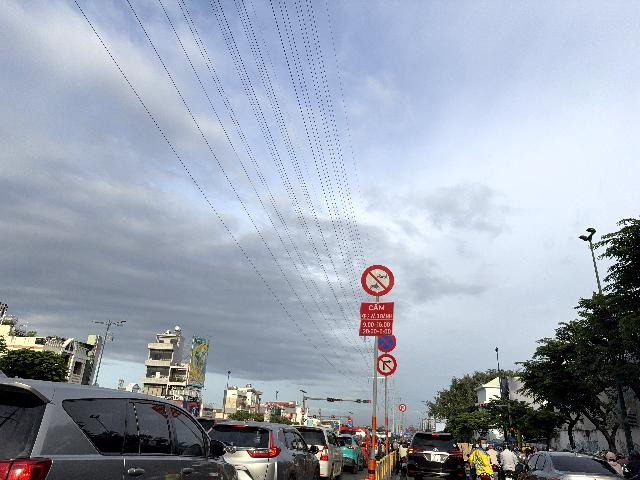cam-re-phai: (378, 353, 397, 376)
cam-xe-2-banh-3-banh: (361, 265, 395, 296)
